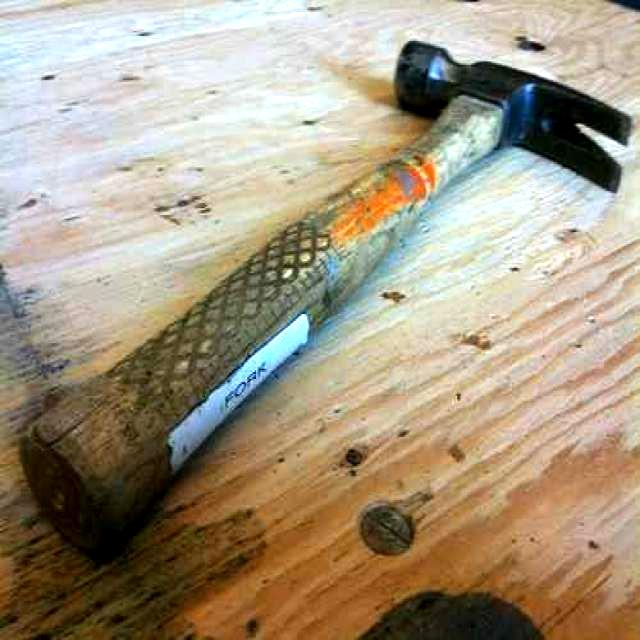hammer: (11, 36, 637, 570)
